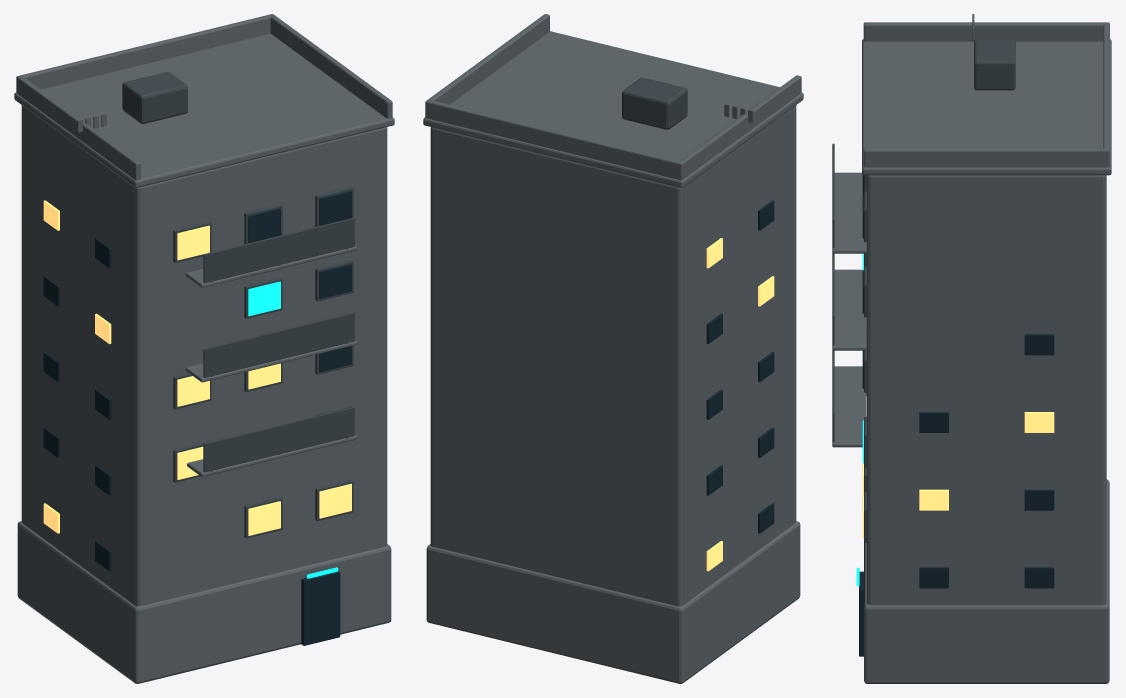
Rendered from stacked-flats_a.glb.
3 views of the same model, side by side, from view 1: azimuth 30°, elevation 25°; view 2: azimuth 150°, elevation 25°; view 3: azimuth 270°, elevation 25° (orthographic). The views are drawn at different scales.
Parts seen in each view (by area): view 1: ND_Batch_structure, ND_Batch_metal, ND_Batch_glass, ND_Batch_warm, ND_Batch_practical; view 2: ND_Batch_structure, ND_Batch_metal, ND_Batch_glass, ND_Batch_warm; view 3: ND_Batch_structure, ND_Batch_glass, ND_Batch_metal, ND_Batch_warm.
Part boxes in pixels (box(x1,y1,x2,y2)): ND_Batch_structure: box(14, 14, 394, 683); ND_Batch_metal: box(122, 72, 354, 538); ND_Batch_glass: box(43, 191, 351, 645); ND_Batch_warm: box(43, 200, 351, 535); ND_Batch_practical: box(248, 281, 338, 578); ND_Batch_structure: box(423, 14, 803, 683); ND_Batch_metal: box(622, 77, 687, 129); ND_Batch_glass: box(706, 200, 774, 533); ND_Batch_warm: box(706, 238, 774, 571); ND_Batch_structure: box(832, 14, 1111, 683); ND_Batch_glass: box(859, 175, 1054, 656); ND_Batch_metal: box(832, 39, 1015, 542); ND_Batch_warm: box(862, 412, 1054, 538).
Bounding box in the file's own units: 8.58 × 16.67 × 7.7.
